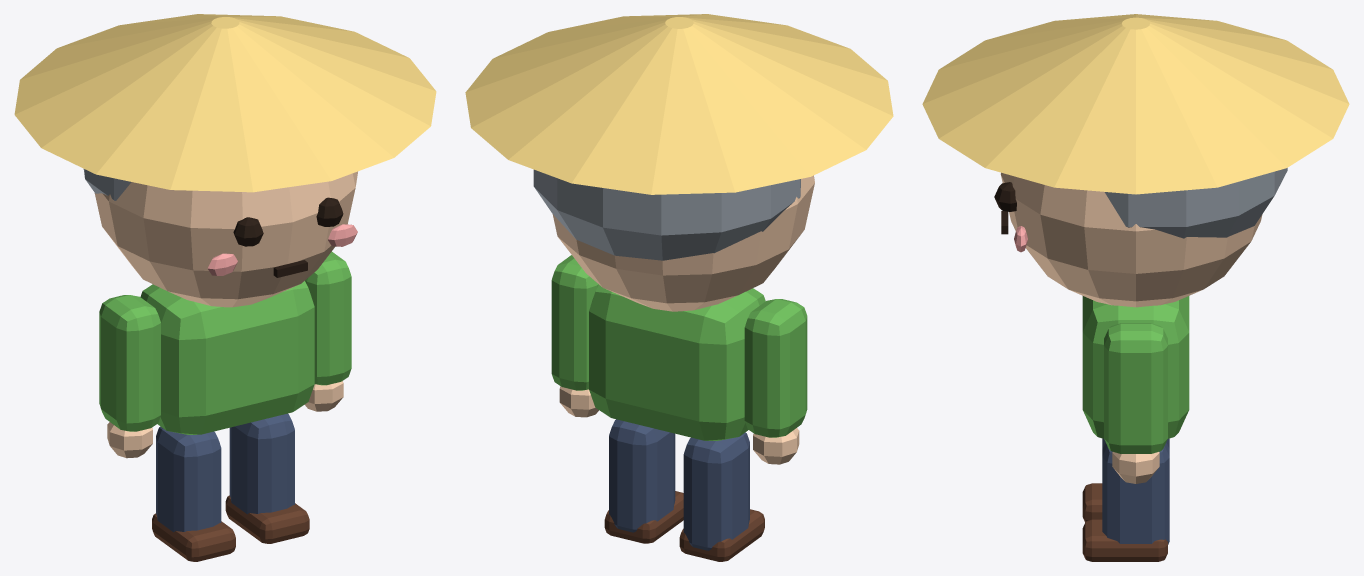
Rendered from kar_penjaga_tani.fbx.
3 views of the same model, side by side, from view 1: azimuth 30°, elevation 25°; view 2: azimuth 150°, elevation 25°; view 3: azimuth 270°, elevation 25° (orthographic).
Parts seen in each view (by area): view 1: kar_penjaga_tani; view 2: kar_penjaga_tani; view 3: kar_penjaga_tani.
Part boxes in pixels (box(x1,y1,x2,y2)): kar_penjaga_tani: box(14, 14, 436, 561); kar_penjaga_tani: box(465, 14, 893, 561); kar_penjaga_tani: box(922, 14, 1349, 561).
Bounding box in the file's own units: 120 × 159 × 120.
Materials: 1 (1 with a texture image).
